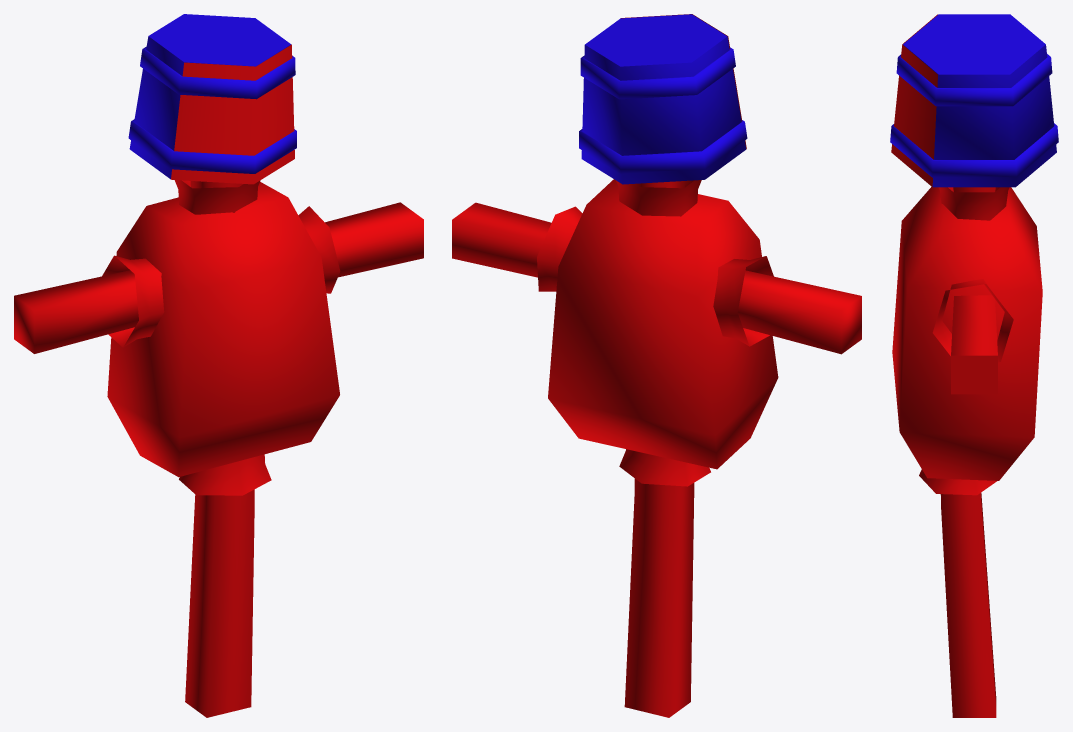
Rendered from Training Dummy.fbx.
The picture shows the model from 3 angles, left to right: view 1: azimuth 30°, elevation 25°; view 2: azimuth 150°, elevation 25°; view 3: azimuth 270°, elevation 25°; orthographic projection.
Parts seen in each view (by area): view 1: Training Dummy; view 2: Training Dummy; view 3: Training Dummy.
Part boxes in pixels (box(x1,y1,x2,y2)): Training Dummy: box(14, 14, 423, 717); Training Dummy: box(452, 14, 861, 717); Training Dummy: box(890, 14, 1058, 717).
Size of the model in its own units: 109 by 179 by 40.9.
